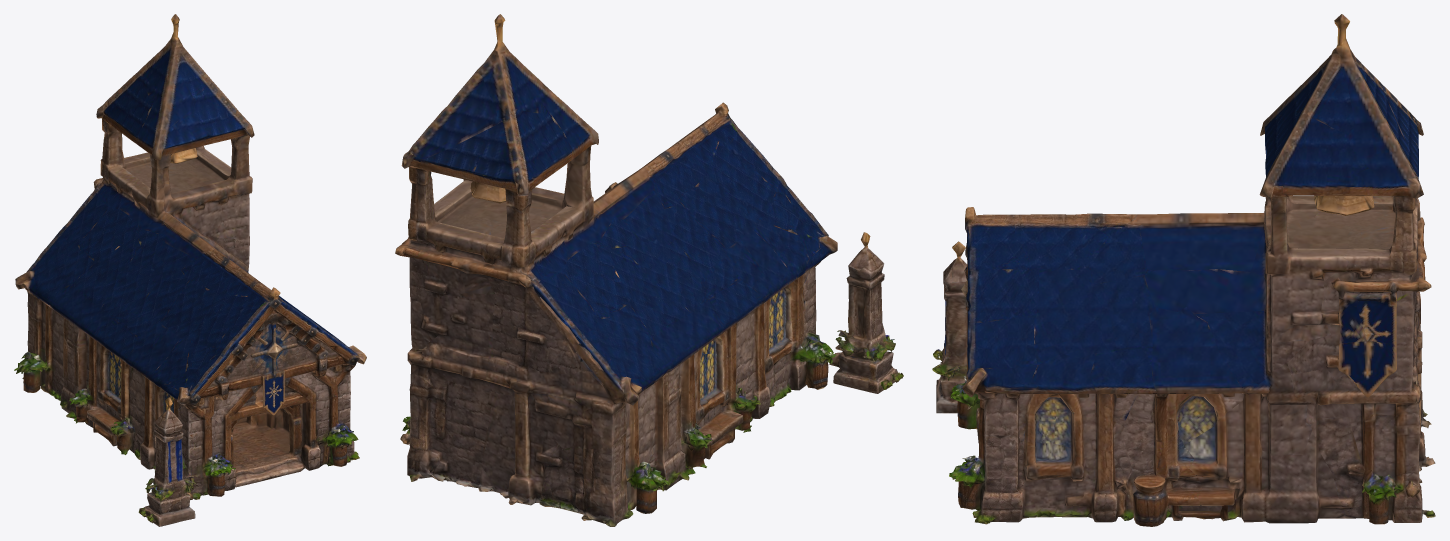
3 views of the same model, side by side, from view 1: azimuth 30°, elevation 25°; view 2: azimuth 150°, elevation 25°; view 3: azimuth 270°, elevation 25° (orthographic). The views are drawn at different scales.
Size of the model in its own units: 9.09 by 13.29 by 12.49.
Materials: 1 (1 with a texture image).
